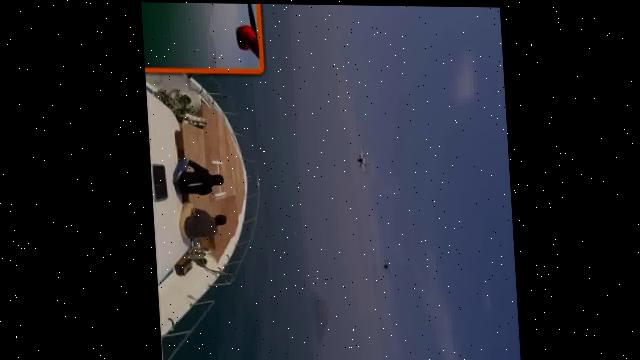drone: (366, 251, 400, 282), (348, 146, 375, 182)
